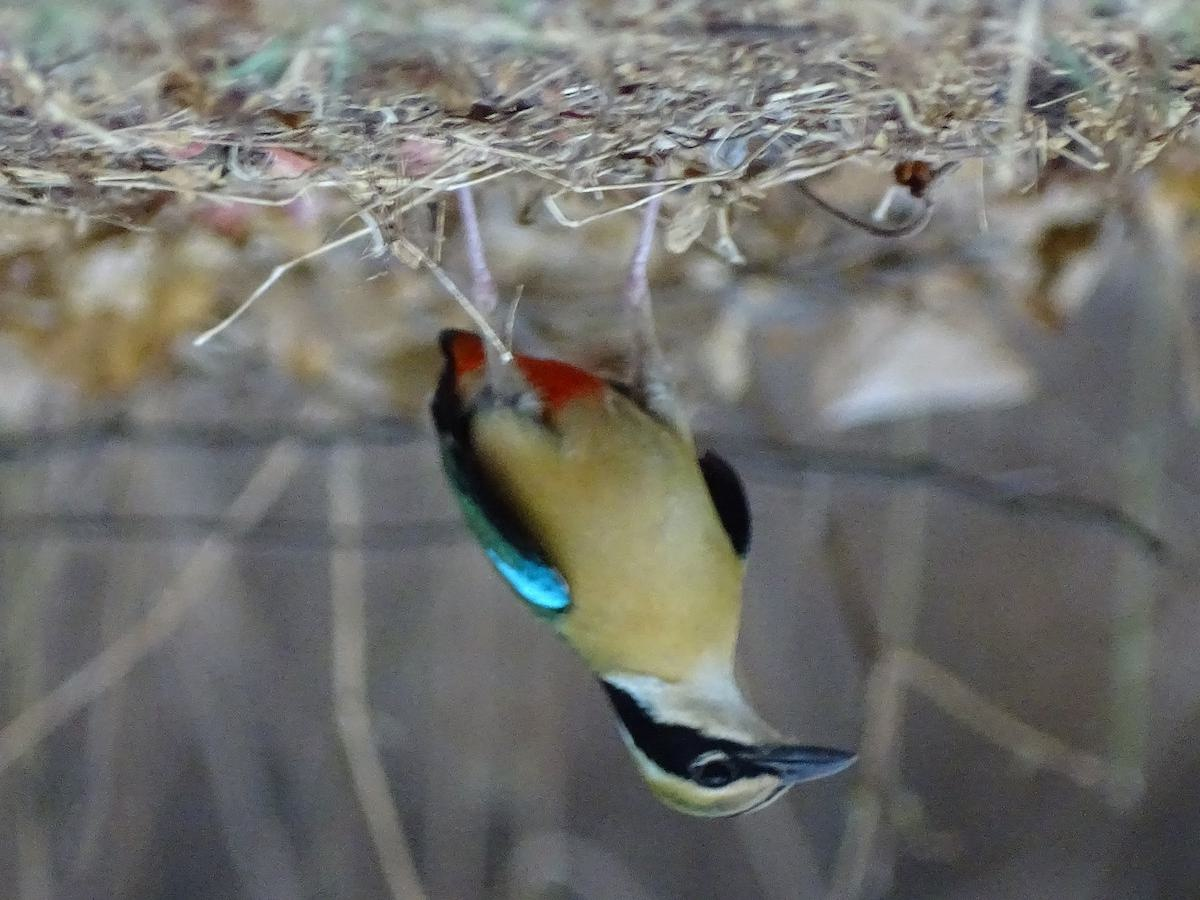pitta: (384, 295, 901, 824)
